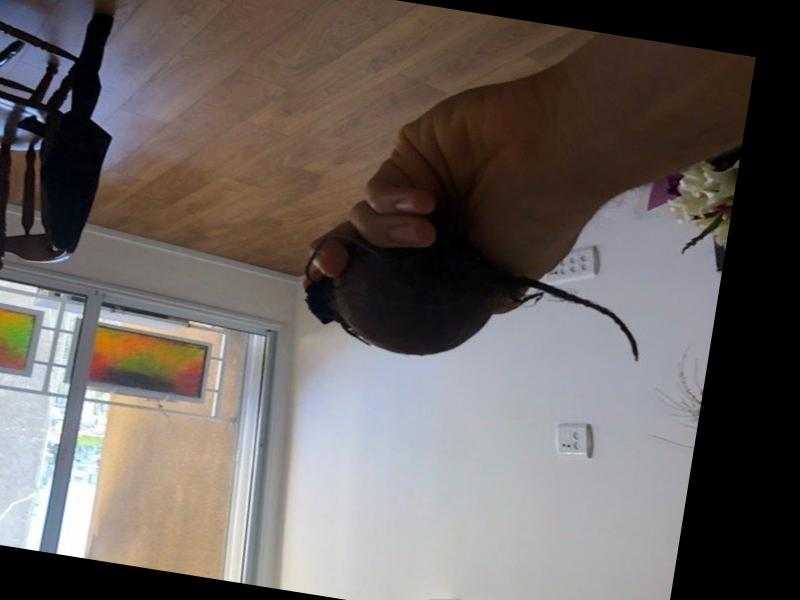Beet: (292, 224, 648, 389)
